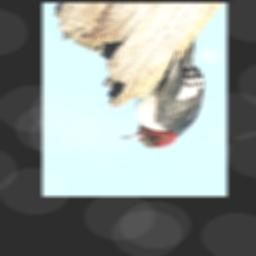Woodpecker: (119, 40, 205, 149)
